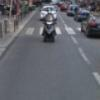cars: (81, 16, 100, 38), (74, 8, 92, 22)
motorcycles: (42, 14, 58, 42)
